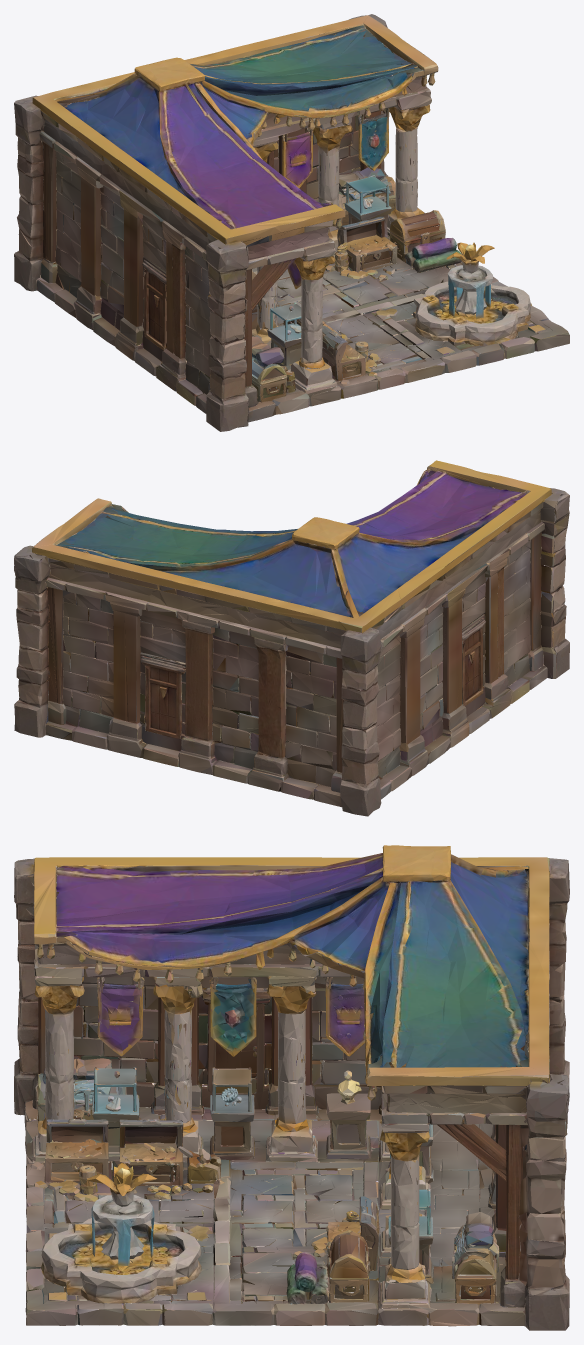
The model's file is market_t4.glb.
3 renders of one model, top to bottom at view 1: azimuth 30°, elevation 25°; view 2: azimuth 150°, elevation 25°; view 3: azimuth 270°, elevation 25°, orthographic. The views are drawn at different scales.
Parts seen in each view (by area): view 1: tripo_part_13, tripo_part_15, tripo_part_5, tripo_part_0, tripo_part_29, tripo_part_22, tripo_part_3, tripo_part_19, tripo_part_10, tripo_part_6, tripo_part_23, tripo_part_18 (+5 smaller); view 2: tripo_part_13, tripo_part_15, tripo_part_29, tripo_part_30, tripo_part_27, tripo_part_28, tripo_part_26, tripo_part_0, tripo_part_10, tripo_part_23, tripo_part_6; view 3: tripo_part_13, tripo_part_15, tripo_part_5, tripo_part_25, tripo_part_11, tripo_part_22, tripo_part_7, tripo_part_1, tripo_part_3, tripo_part_29, tripo_part_24, tripo_part_30 (+6 smaller).
Part boxes in pixels (x1,y1,x2,y2): tripo_part_13: [32, 15, 569, 422]; tripo_part_15: [65, 28, 414, 228]; tripo_part_5: [414, 242, 530, 346]; tripo_part_0: [206, 240, 248, 431]; tripo_part_29: [14, 95, 46, 291]; tripo_part_22: [388, 103, 430, 223]; tripo_part_3: [294, 255, 335, 368]; tripo_part_19: [313, 125, 352, 250]; tripo_part_10: [142, 258, 166, 350]; tripo_part_6: [171, 243, 185, 378]; tripo_part_23: [134, 57, 204, 91]; tripo_part_18: [282, 131, 312, 188]; tripo_part_13: [32, 460, 561, 807]; tripo_part_15: [59, 470, 525, 617]; tripo_part_29: [337, 627, 381, 816]; tripo_part_30: [14, 555, 50, 737]; tripo_part_27: [254, 638, 287, 774]; tripo_part_28: [181, 623, 213, 756]; tripo_part_26: [140, 655, 185, 739]; tripo_part_0: [545, 488, 569, 678]; tripo_part_10: [462, 619, 485, 706]; tripo_part_23: [292, 517, 359, 550]; tripo_part_6: [497, 567, 510, 690]; tripo_part_13: [24, 857, 553, 1326]; tripo_part_15: [56, 853, 528, 1083]; tripo_part_5: [41, 1163, 207, 1303]; tripo_part_25: [517, 1074, 568, 1295]; tripo_part_11: [267, 976, 316, 1154]; tripo_part_22: [380, 1117, 431, 1284]; tripo_part_7: [153, 977, 203, 1154]; tripo_part_1: [14, 875, 38, 1115]; tripo_part_3: [34, 976, 84, 1129]; tripo_part_29: [521, 858, 569, 1104]; tripo_part_24: [429, 1115, 521, 1281]; tripo_part_30: [503, 1074, 569, 1330].
Bounding box in the file's own units: 0.9787 × 0.5869 × 0.9788.
Materials: 31 (31 with a texture image).
